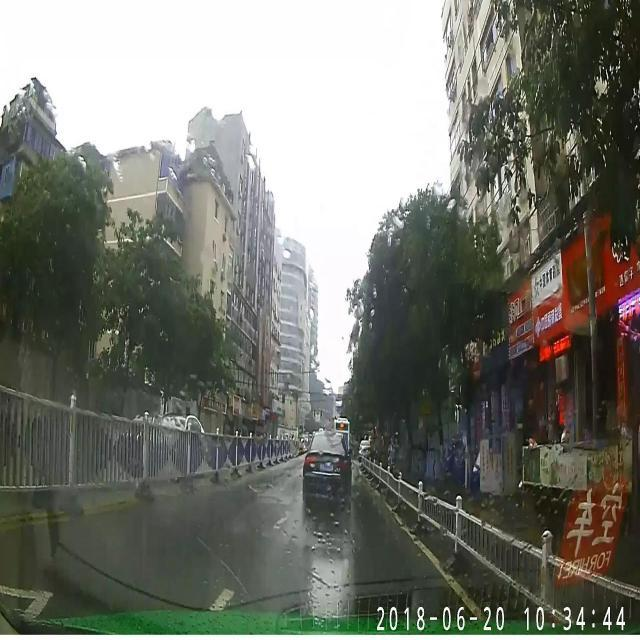car: (303, 430, 352, 502)
